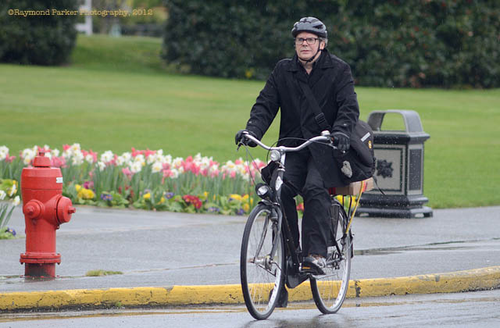bikerider: (228, 8, 384, 322)
